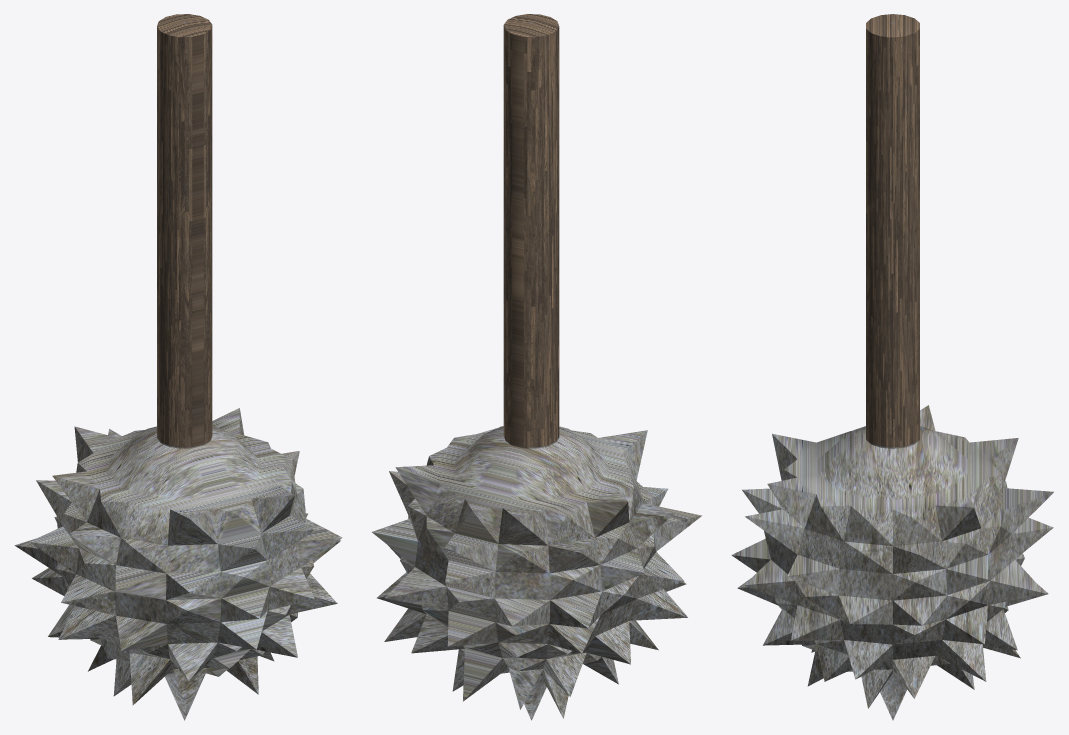
Rendered from Mace.fbx.
3 renders of one model, left to right at view 1: azimuth 30°, elevation 25°; view 2: azimuth 150°, elevation 25°; view 3: azimuth 270°, elevation 25°, orthographic.
Visible parts, largest first — view 1: pSphere1; view 2: pSphere1; view 3: pSphere1.
Part boxes in pixels (<box>): pSphere1: <box>14,14,342,720</box>; pSphere1: <box>372,14,701,720</box>; pSphere1: <box>731,14,1053,720</box>.
Bounding box in the file's own units: 5.17 × 12.31 × 5.17.
